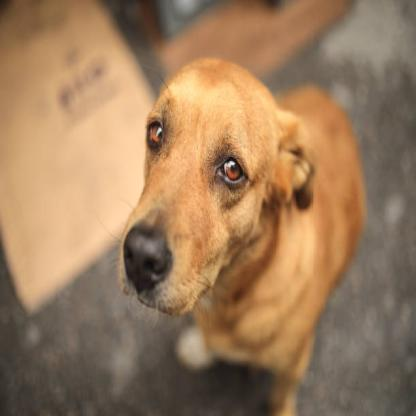dog: (118, 44, 328, 400)
